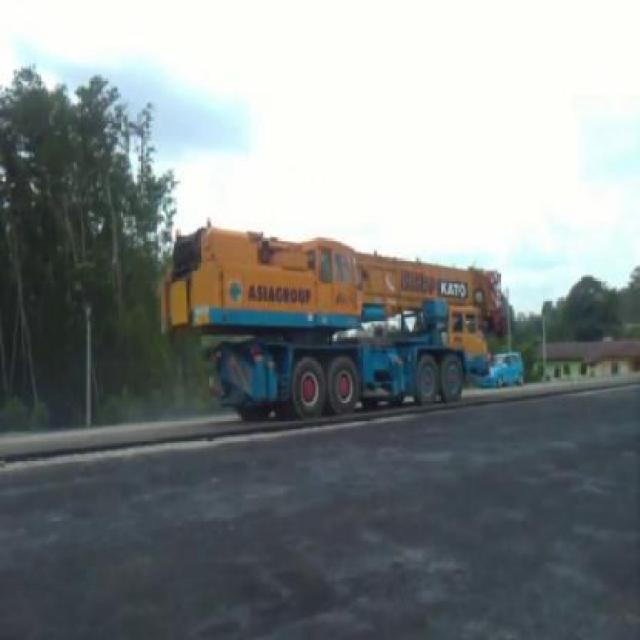Mobile Crane: (160, 203, 494, 379)
